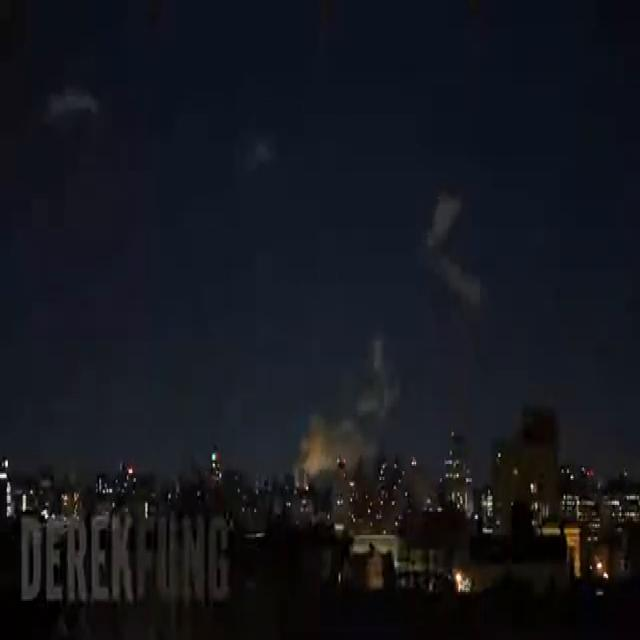smoke: (295, 366, 398, 475)
